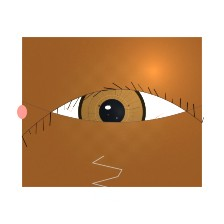foreign_body_visible: (107, 121, 145, 151)
